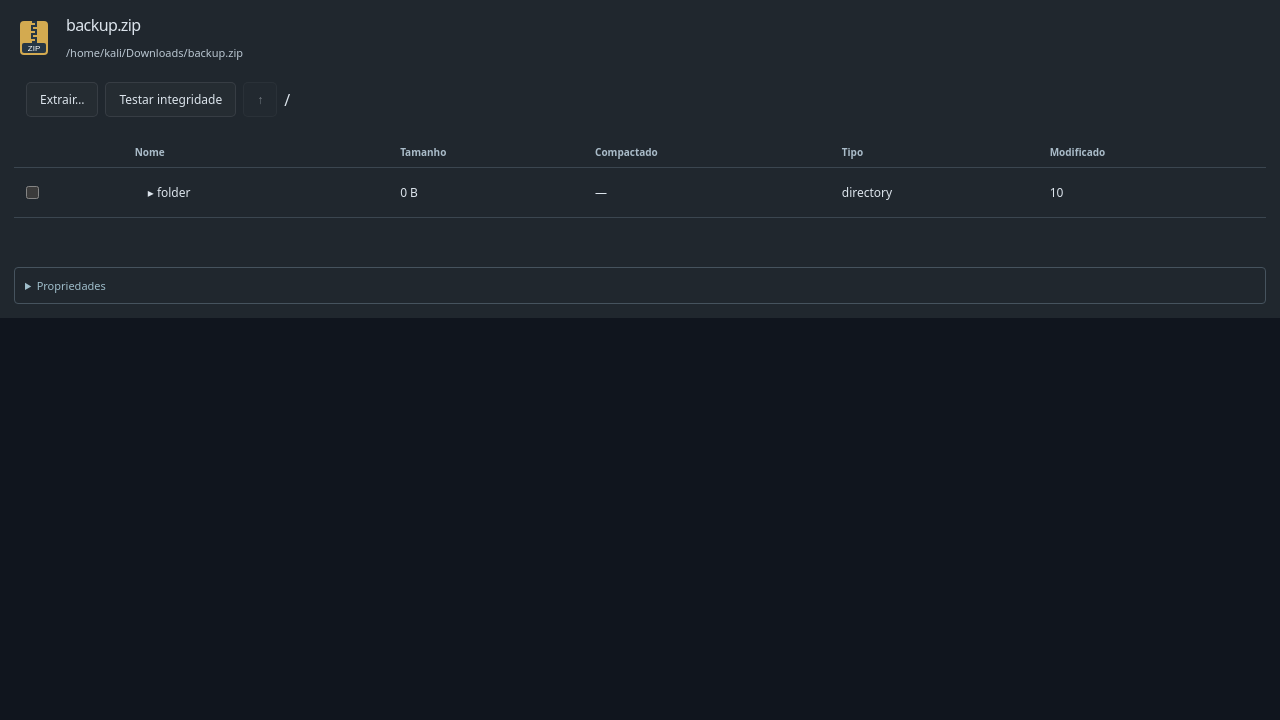
Test: surfaces invalid headers and uses the password dialog for integrity checks
This screenshot has width=1280, height=720.
Click the button "Testar integridade" at [171, 100], box top-left (105, 82), bottom-right (236, 117)
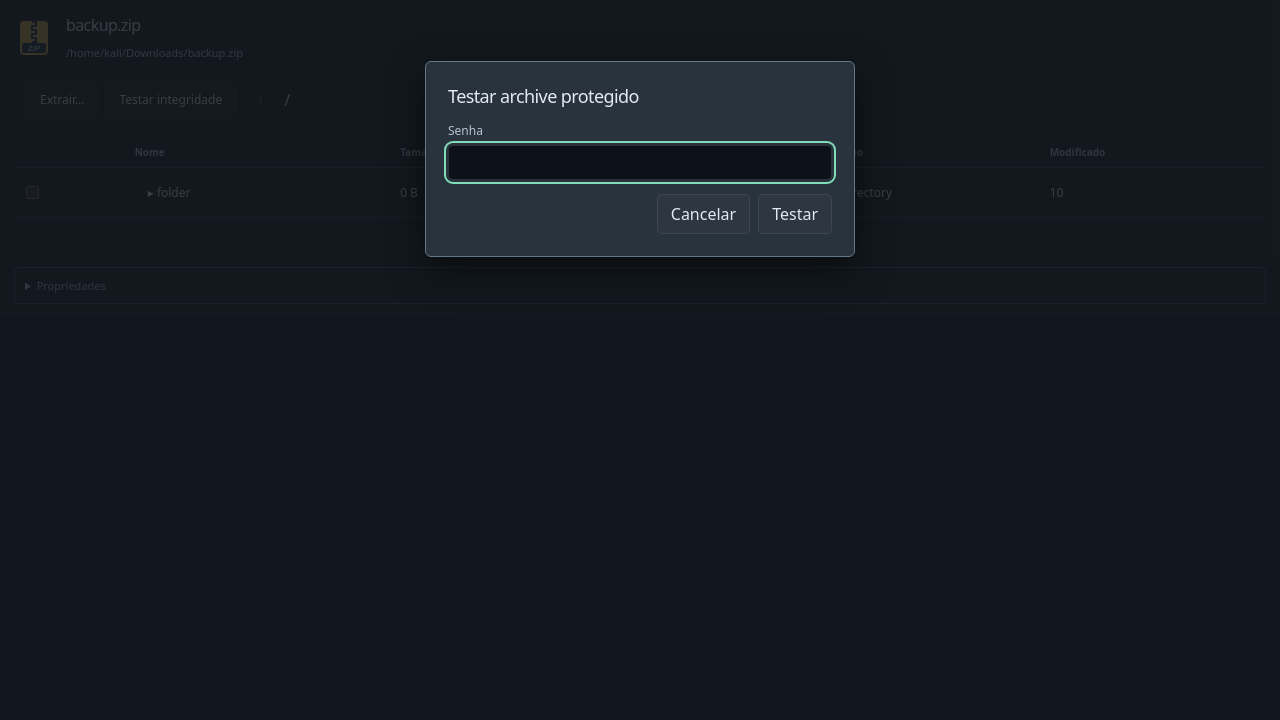
Type "qa-password" into the password field labelled "Senha" at [640, 162], box top-left (448, 145), bottom-right (832, 180)
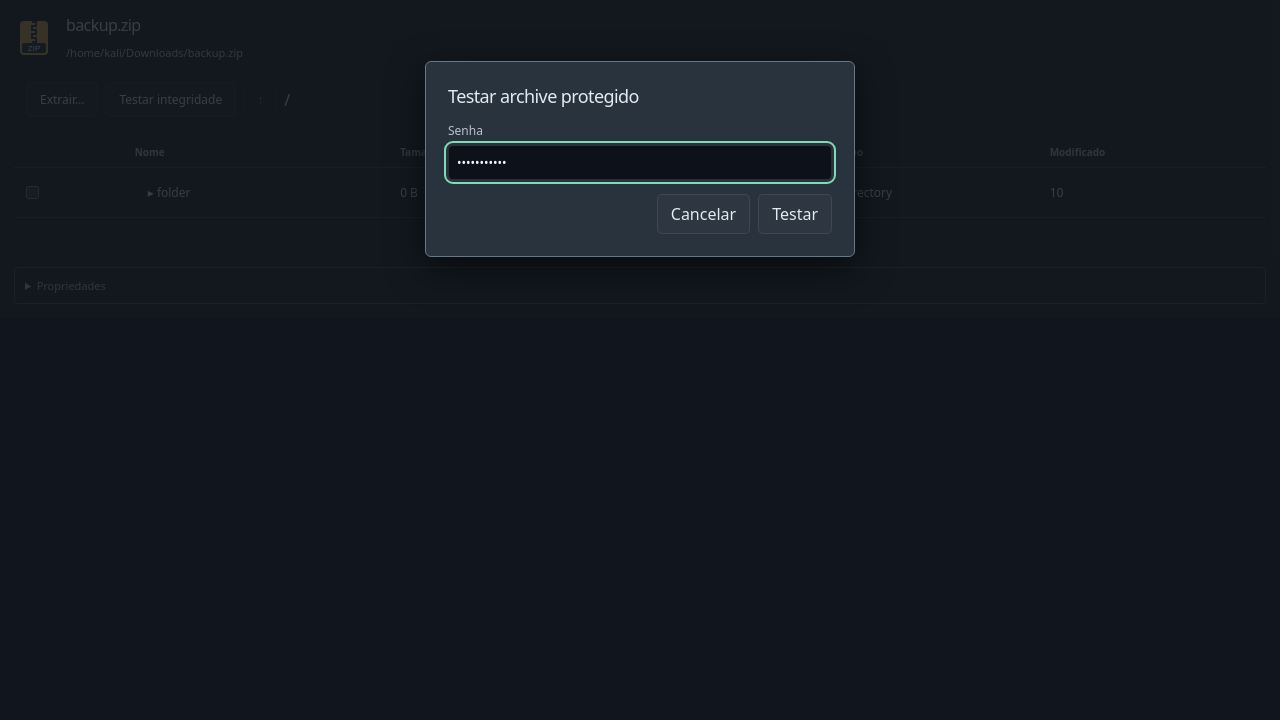
Click the button "Testar" at [795, 214], box top-left (758, 194), bottom-right (832, 234)
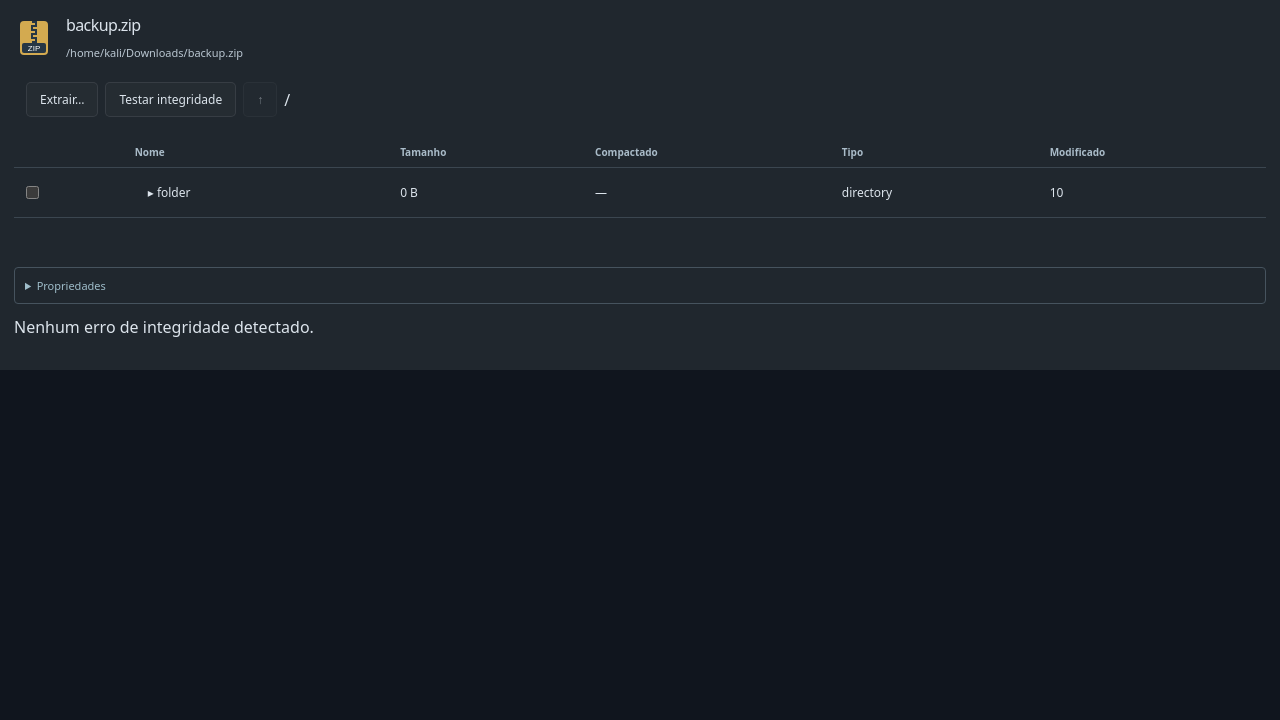
expect the message shows "Nenhum erro": met, box top-left (14, 316), bottom-right (314, 338)
